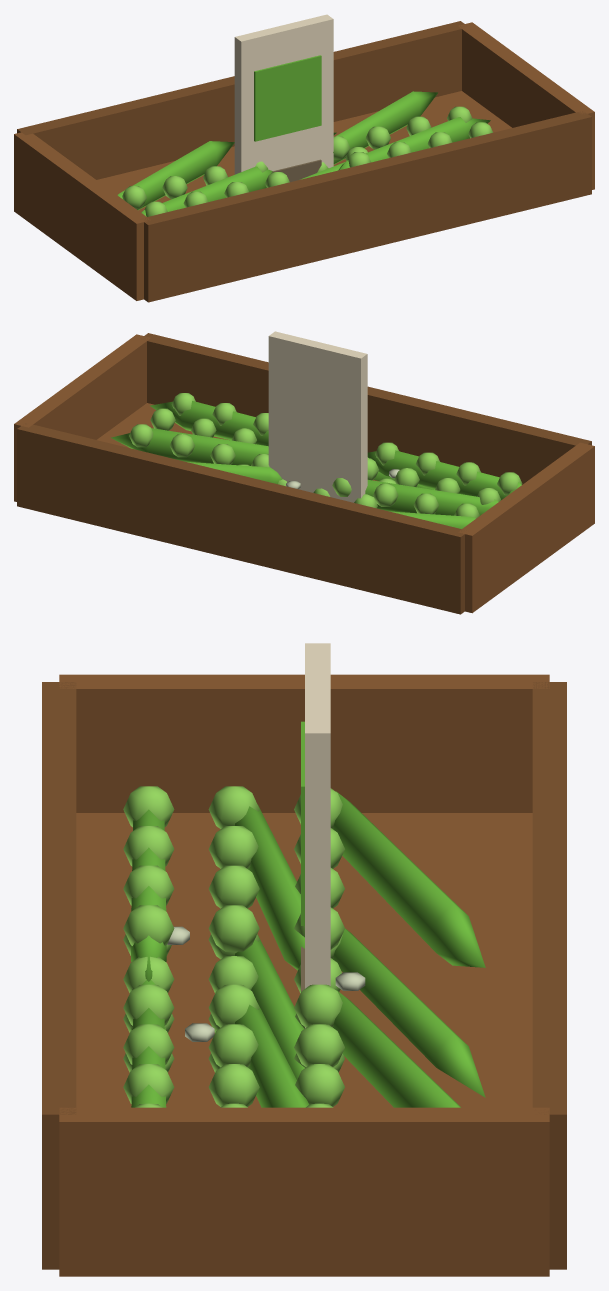
The model's file is Veg_Pea.fbx.
3 renders of one model, top to bottom at view 1: azimuth 30°, elevation 25°; view 2: azimuth 150°, elevation 25°; view 3: azimuth 270°, elevation 25°, orthographic. The views are drawn at different scales.
Visible parts, largest first — view 1: Veg_Pea__Stack, Veg_Pea__Seed; view 2: Veg_Pea__Stack, Veg_Pea__Seed, Veg_Pea; view 3: Veg_Pea__Stack, Veg_Pea, Veg_Pea__Seed, Veg_Pea__Rotten.
Boxes of the visible parts, <box> form: Veg_Pea__Stack: <box>14,21,594,302</box>; Veg_Pea__Seed: <box>234,14,333,182</box>; Veg_Pea__Stack: <box>14,333,594,614</box>; Veg_Pea__Seed: <box>268,331,367,502</box>; Veg_Pea: <box>238,457,433,508</box>; Veg_Pea__Stack: <box>42,674,566,1276</box>; Veg_Pea: <box>123,928,485,1097</box>; Veg_Pea__Seed: <box>301,643,330,1028</box>; Veg_Pea__Rotten: <box>167,926,365,1041</box>.
Bounding box in the file's own units: 0.248 × 0.09 × 0.1229.
